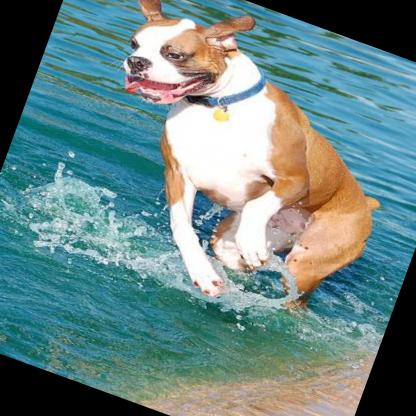boxer: (43, 0, 416, 343)
